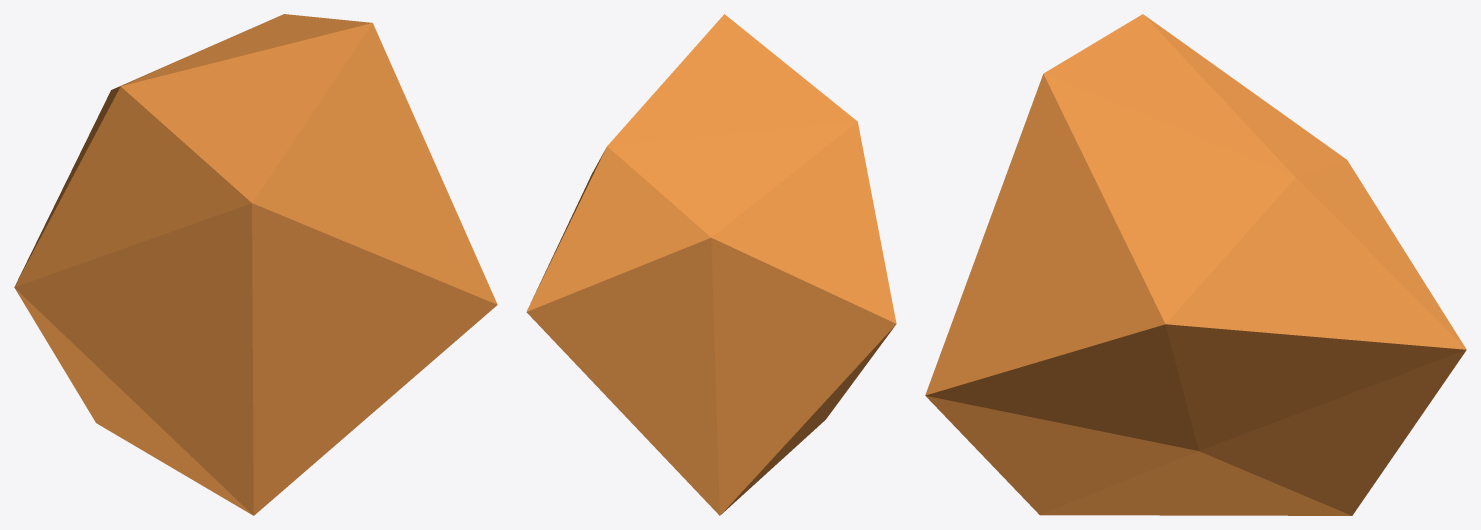
File: FallingRock_High.fbx
The picture shows the model from 3 angles, left to right: view 1: azimuth 30°, elevation 25°; view 2: azimuth 150°, elevation 25°; view 3: azimuth 270°, elevation 25°; orthographic projection. The views are drawn at different scales.
Visible parts, largest first — view 1: FallingRock_High; view 2: FallingRock_High; view 3: FallingRock_High.
Boxes of the visible parts, <box> form: FallingRock_High: <box>14,14,497,515</box>; FallingRock_High: <box>526,14,896,515</box>; FallingRock_High: <box>925,14,1466,515</box>.
Size of the model in its own units: 172 by 199 by 190.
